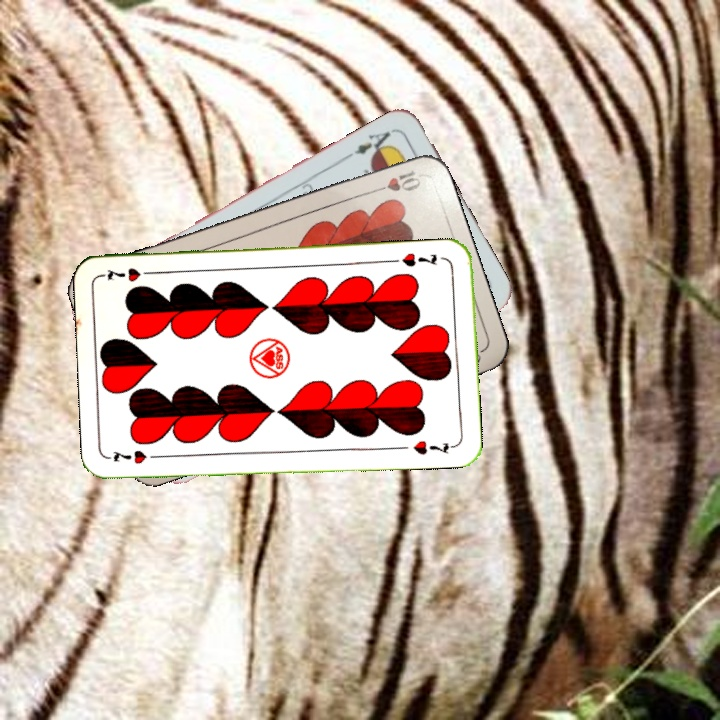EA: (343, 125, 397, 161)
H10: (366, 166, 424, 197)
H7: (109, 446, 166, 467), (398, 248, 439, 270)
